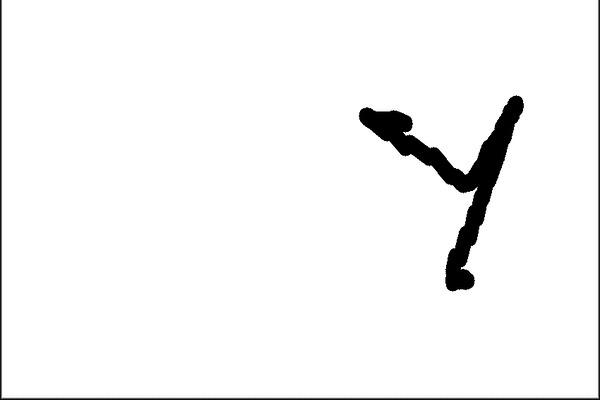Y: (347, 89, 536, 302)
